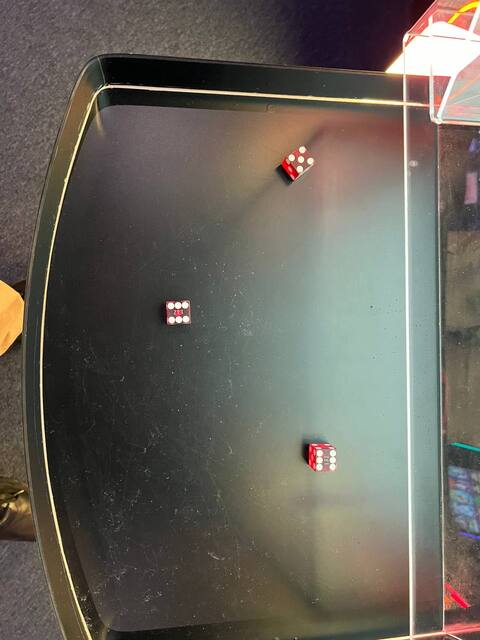five: (285, 143, 318, 178)
six: (161, 296, 192, 329), (309, 445, 340, 475)
